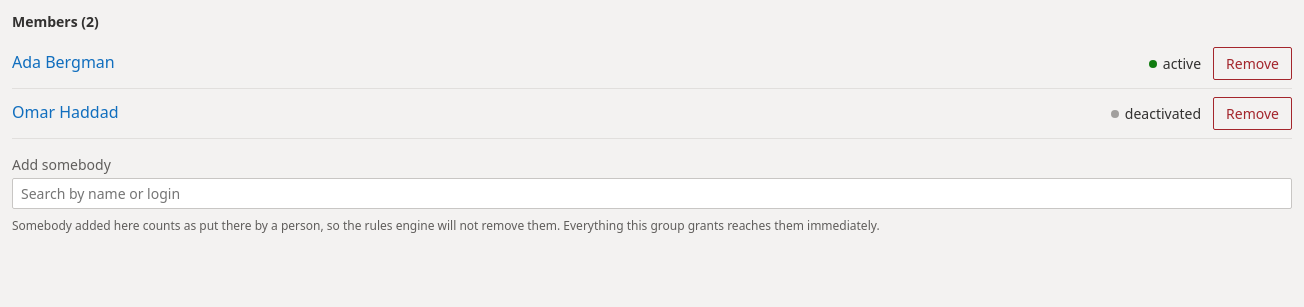
it searches rather than listing everybody
This screenshot has width=1304, height=307.
In the field labelled "Add somebody": coordinates (652, 194) [12,178,1292,209], type "nad"
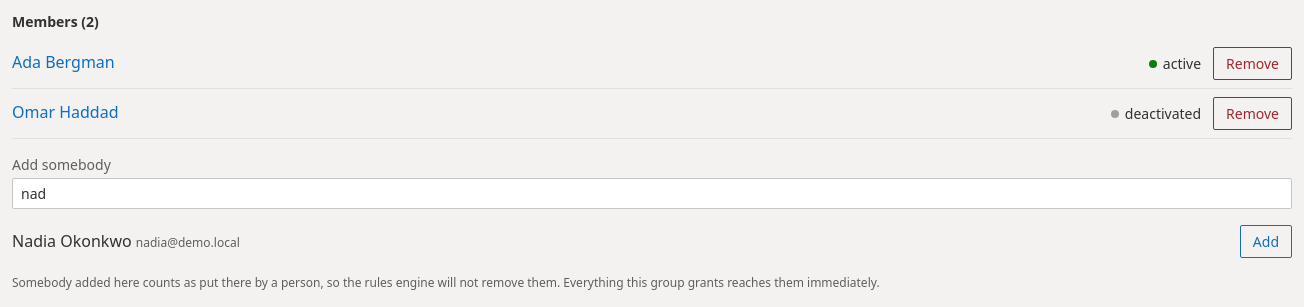
Expected: the text "Nadia Okonkwo" is shown, [12,230,132,252]
